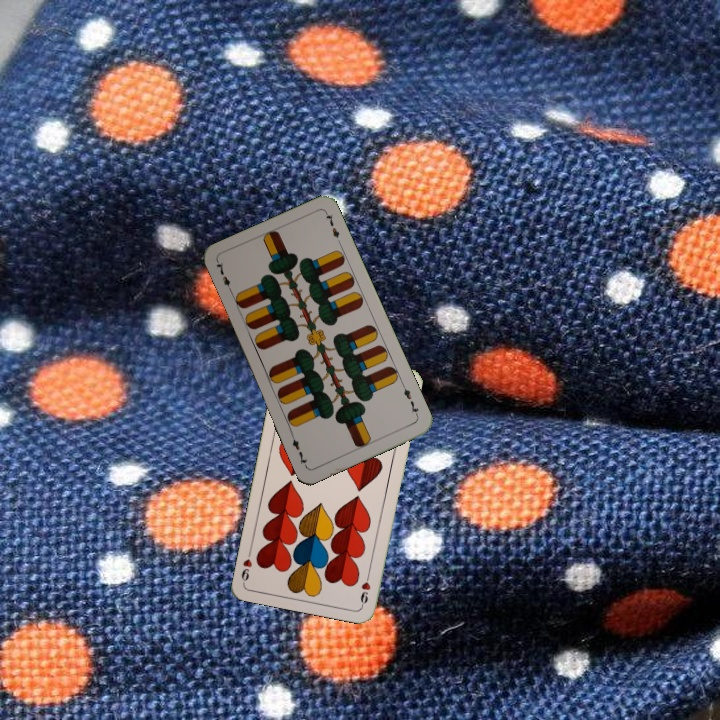E7: (212, 258, 235, 296), (399, 381, 421, 419)
H9: (356, 568, 373, 608)
